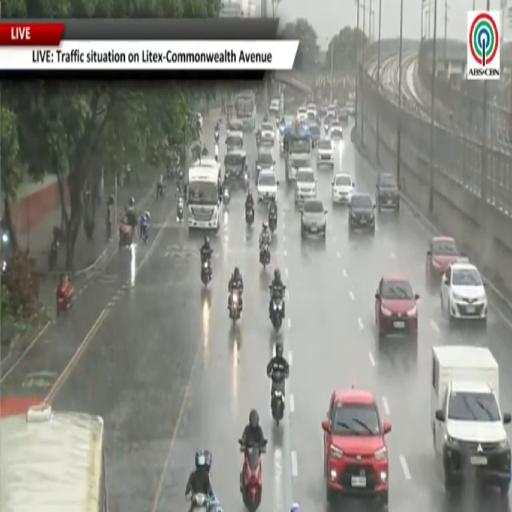bus: (0, 406, 108, 511), (188, 158, 221, 230)
car: (322, 389, 391, 508), (441, 259, 488, 323), (375, 276, 419, 339), (426, 236, 461, 278), (349, 192, 375, 233), (301, 199, 326, 239), (376, 173, 400, 212), (295, 167, 317, 203), (224, 150, 248, 180), (257, 169, 278, 202), (332, 173, 354, 204), (255, 149, 275, 182), (317, 138, 334, 167), (308, 121, 322, 148), (261, 122, 275, 146), (226, 132, 243, 151), (330, 120, 342, 139), (227, 119, 242, 133), (326, 104, 338, 120), (269, 100, 280, 116), (306, 104, 318, 118), (339, 107, 348, 124), (345, 101, 355, 116), (297, 107, 307, 121), (318, 103, 327, 117), (307, 112, 317, 123), (196, 112, 203, 127)
motorcycle: (239, 440, 266, 511), (271, 375, 285, 425), (270, 286, 285, 331), (187, 493, 221, 511), (57, 281, 74, 315), (229, 290, 241, 324), (119, 222, 133, 249), (190, 493, 209, 511), (49, 239, 59, 271), (201, 260, 212, 285), (259, 244, 270, 269), (106, 206, 112, 239), (141, 221, 149, 244), (177, 196, 184, 221), (245, 207, 254, 226), (269, 212, 276, 233), (156, 183, 164, 199), (223, 187, 230, 205), (244, 169, 249, 188), (215, 130, 220, 143), (324, 122, 329, 133)
truck: (431, 346, 510, 495), (283, 120, 312, 181), (235, 90, 256, 132)
